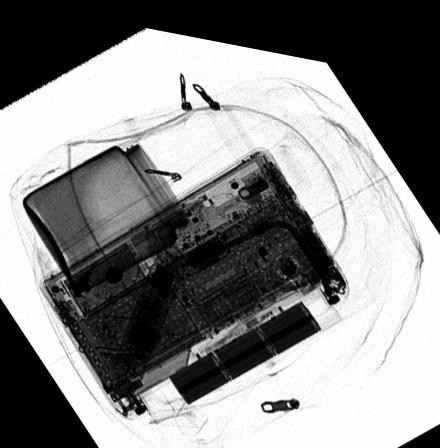Baton: (110, 230, 188, 386)
